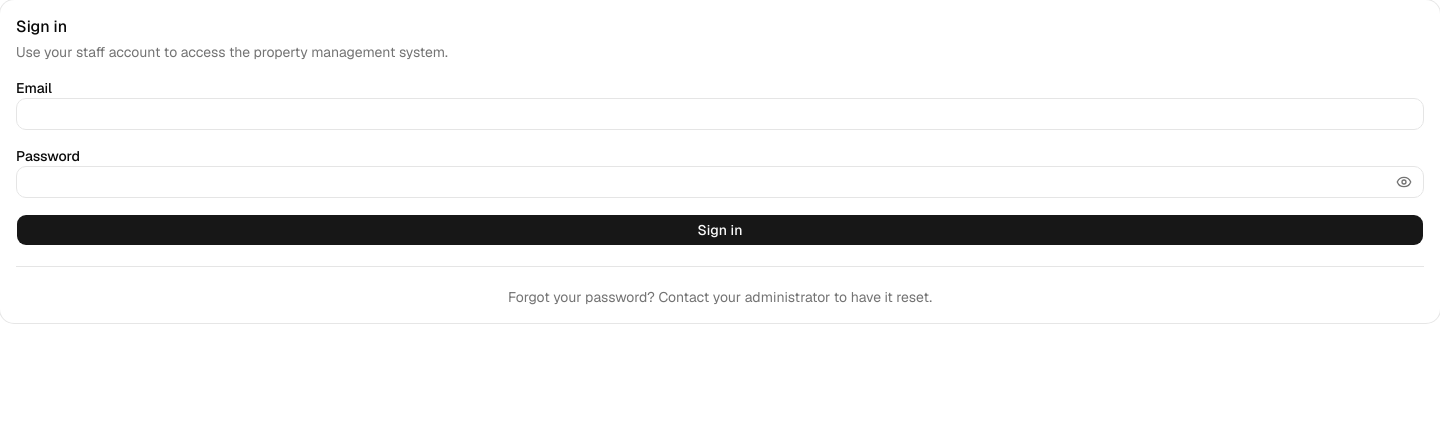
Test: LoginForm › shows the invalid-credentials alert on a 401
In the field labelled "Email": (720, 114) x1=16 y1=98 x2=1424 y2=130, type "ada@hotm.test"
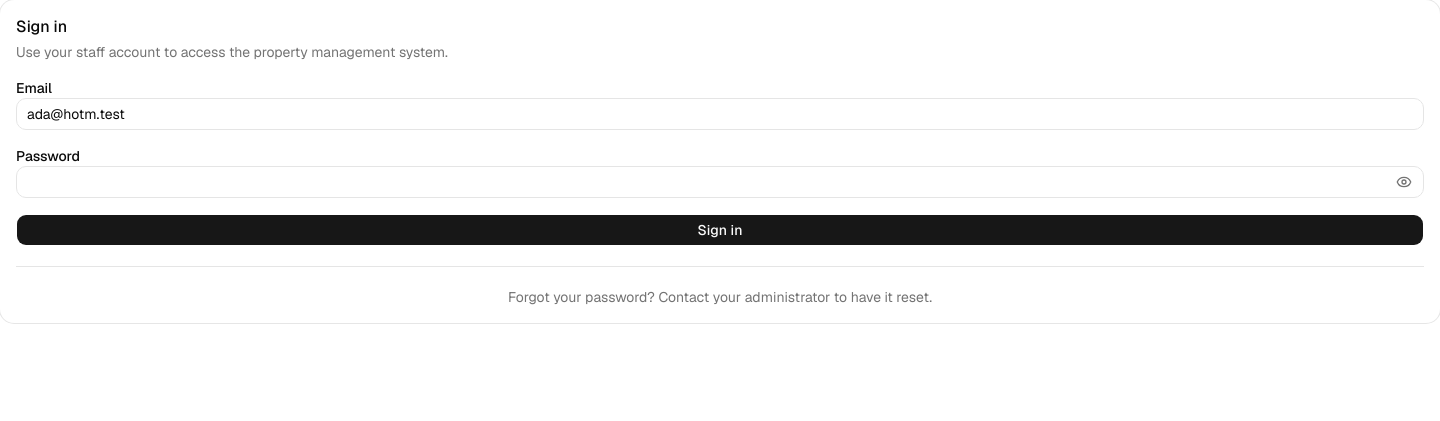
In the password field labelled "Password": (720, 182) x1=16 y1=166 x2=1424 y2=198, type "wrong"
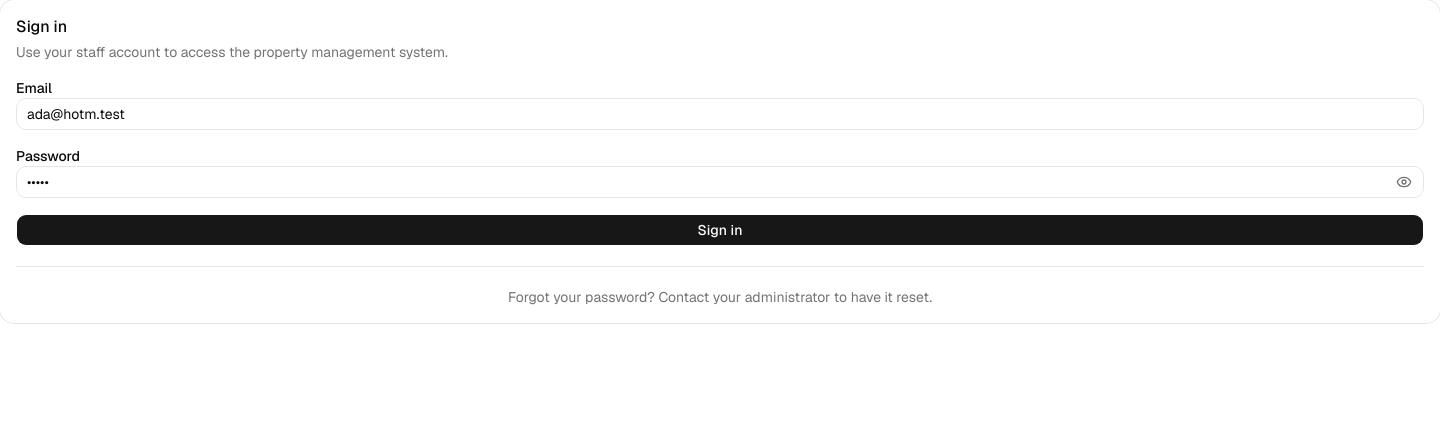
Click the button "Sign in": (720, 230) x1=16 y1=214 x2=1424 y2=246
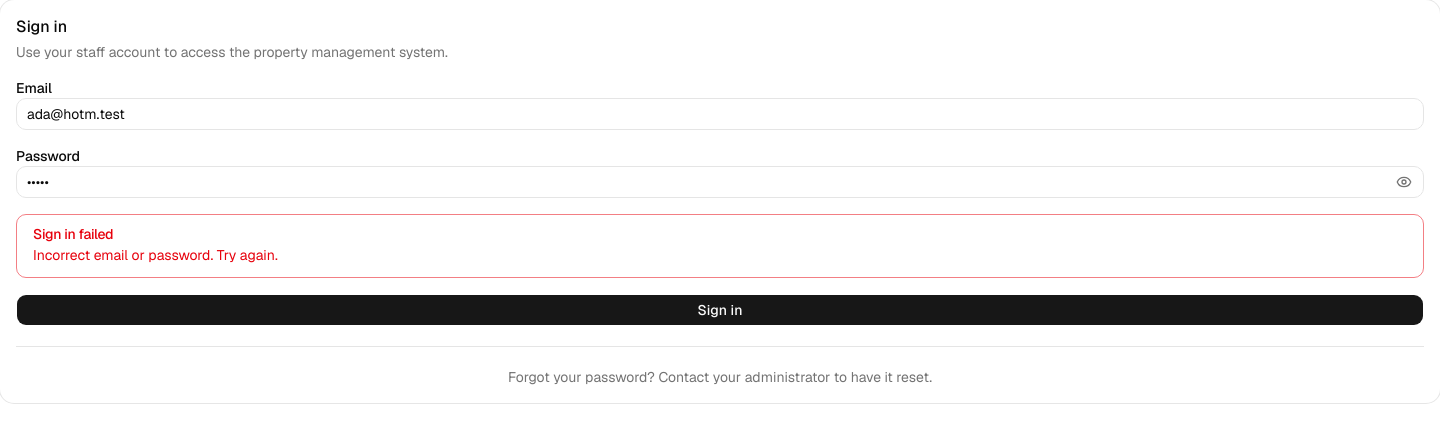
expect the text "Incorrect email or password. Try again." is shown: met, box x1=33 y1=246 x2=278 y2=264
